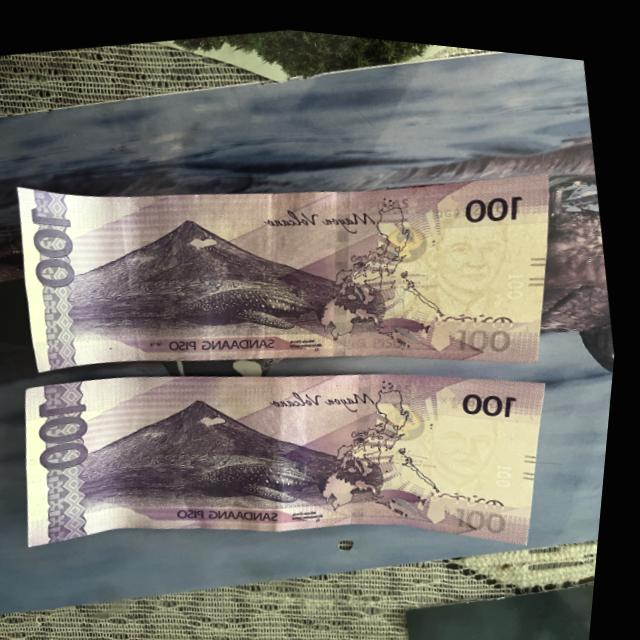100_whale: (159, 418, 351, 524), (173, 259, 349, 346)
100_whale_watermark: (350, 284, 449, 351), (362, 456, 452, 518)
value_watermark: (495, 249, 545, 302), (488, 447, 531, 489)
watermark: (401, 182, 554, 336), (406, 374, 548, 515)
